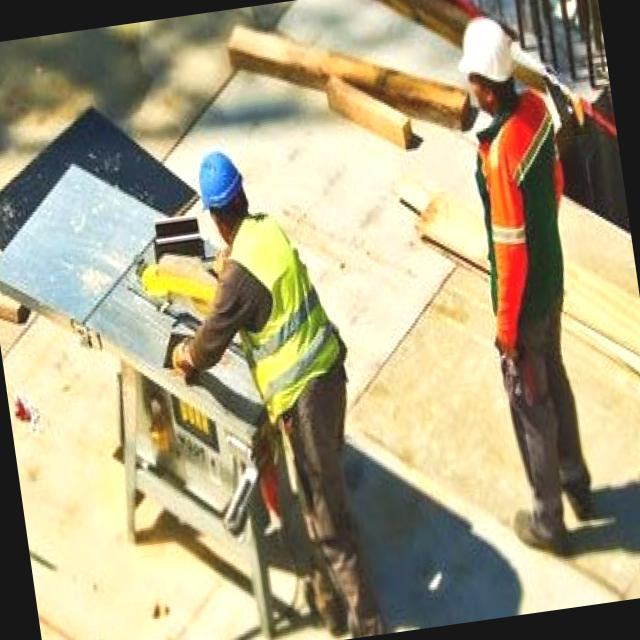helmet: (448, 13, 520, 97), (191, 148, 249, 223)
no-vest: (467, 110, 576, 318)
vest: (214, 203, 352, 393)
